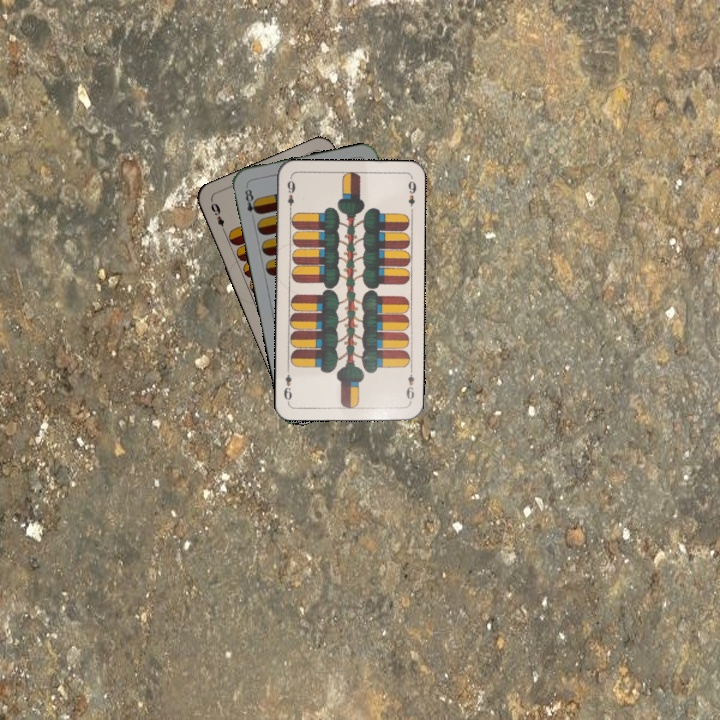E8: (241, 182, 262, 217)
E9: (207, 199, 229, 236), (402, 364, 417, 405), (283, 177, 297, 215)
